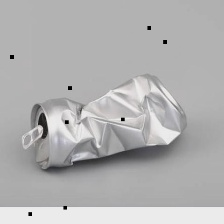can: (16, 70, 199, 177)
